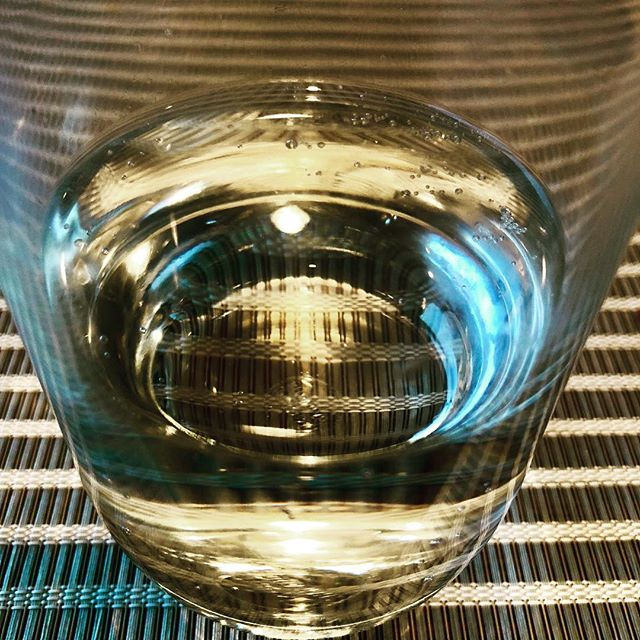glass of water: (53, 109, 564, 621)
